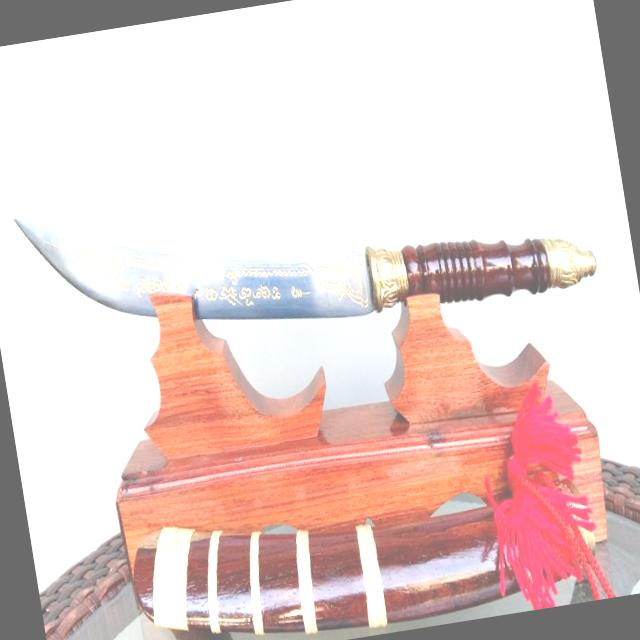long sword: (10, 122, 608, 388)
